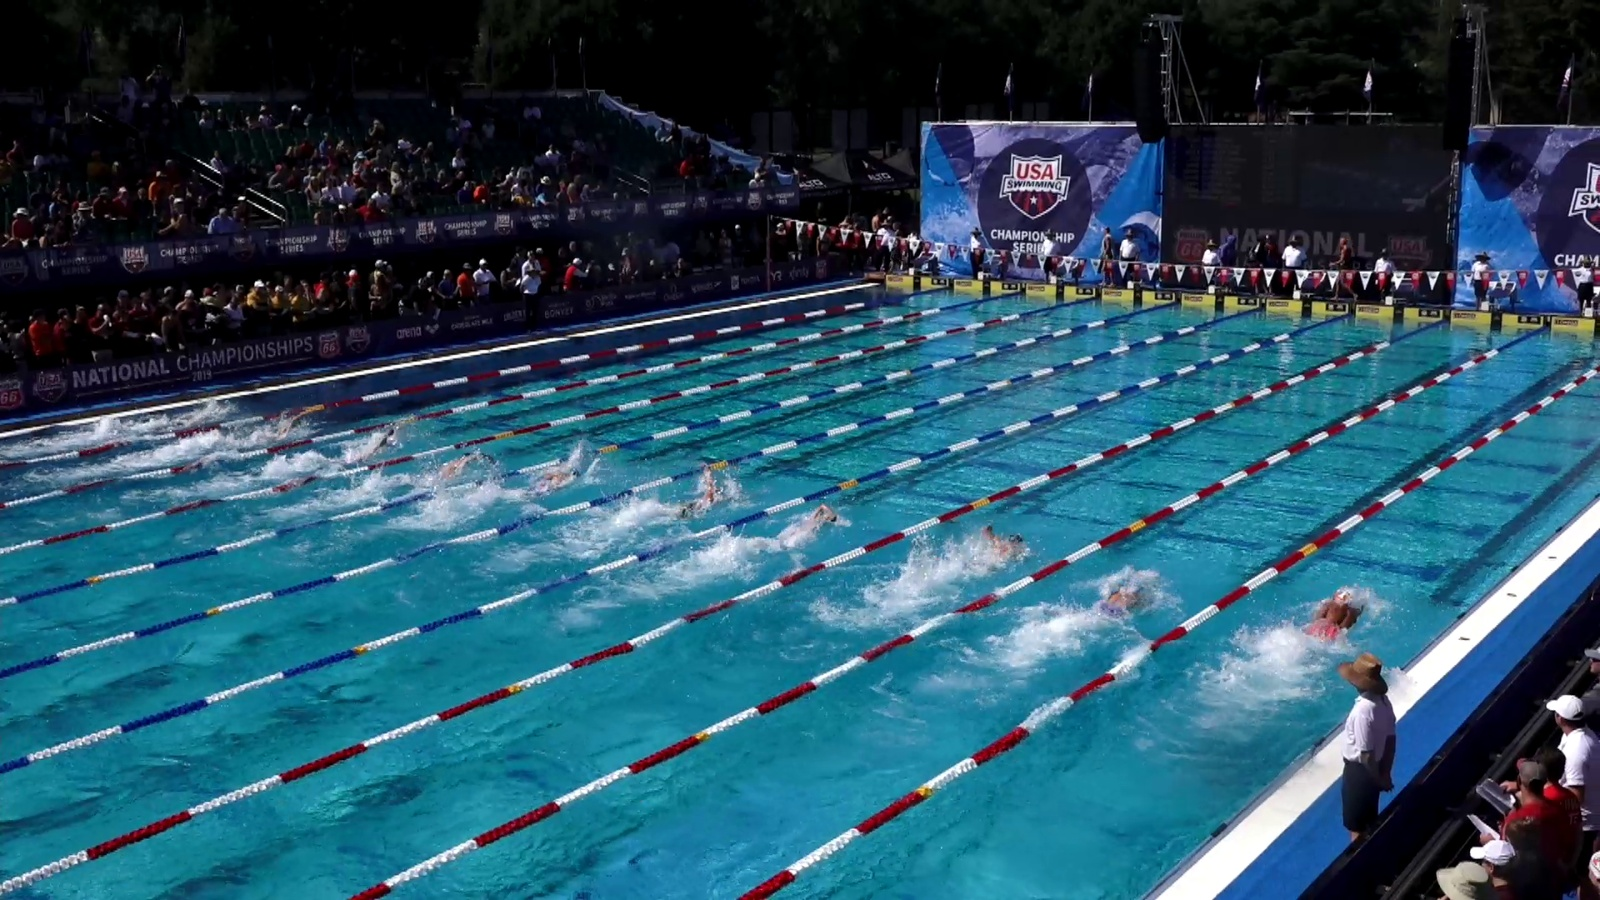swimmerw: (619, 469, 738, 544), (1274, 581, 1367, 675), (1060, 573, 1153, 649), (932, 525, 1027, 582), (746, 501, 840, 558), (333, 426, 405, 473), (499, 467, 585, 505), (124, 407, 225, 437), (402, 449, 495, 481), (243, 416, 305, 444)
